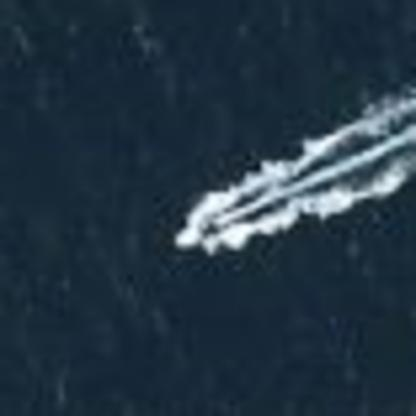ship: (166, 204, 230, 269)
